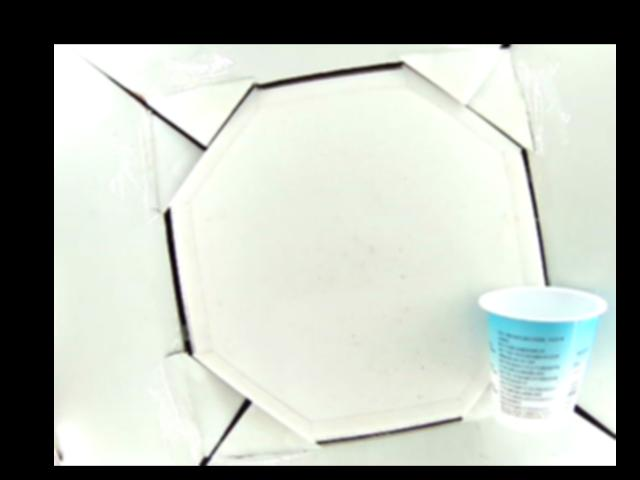Cup: (478, 283, 608, 432)
